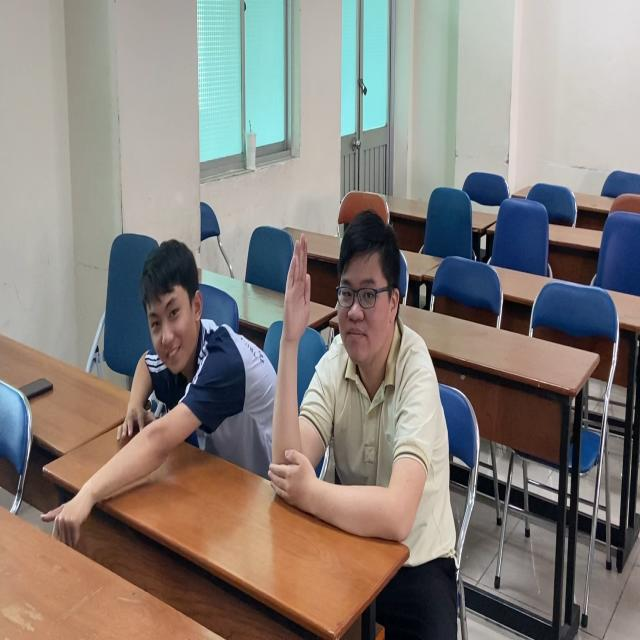raise_hand: (272, 204, 461, 571)
